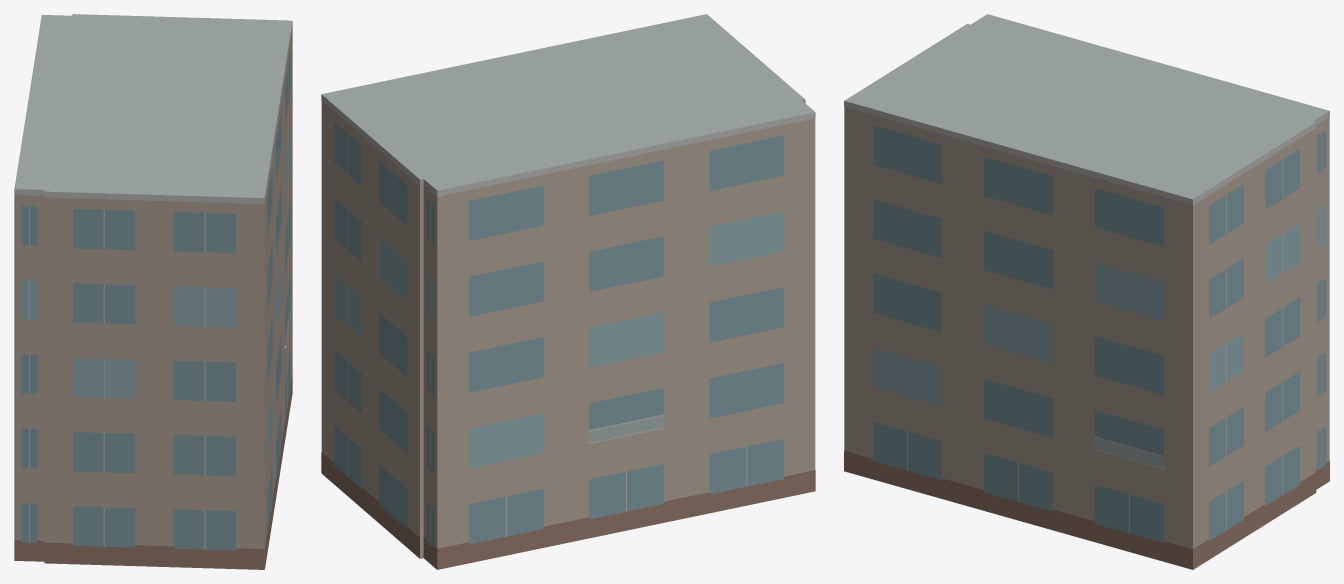
The model's file is survey-upis-32905823.glb.
The picture shows the model from 3 angles, left to right: view 1: azimuth 30°, elevation 25°; view 2: azimuth 150°, elevation 25°; view 3: azimuth 270°, elevation 25°; orthographic projection. The views are drawn at different scales.
Visible parts, largest first — view 1: survey-upis-32905823.tmp; view 2: survey-upis-32905823.tmp; view 3: survey-upis-32905823.tmp.
Part boxes in pixels (x1=…): survey-upis-32905823.tmp: x1=14, y1=14, x2=292, y2=569; survey-upis-32905823.tmp: x1=321, y1=14, x2=815, y2=569; survey-upis-32905823.tmp: x1=844, y1=14, x2=1329, y2=569.
Size of the model in its own units: 16.38 by 15.25 by 18.12.
